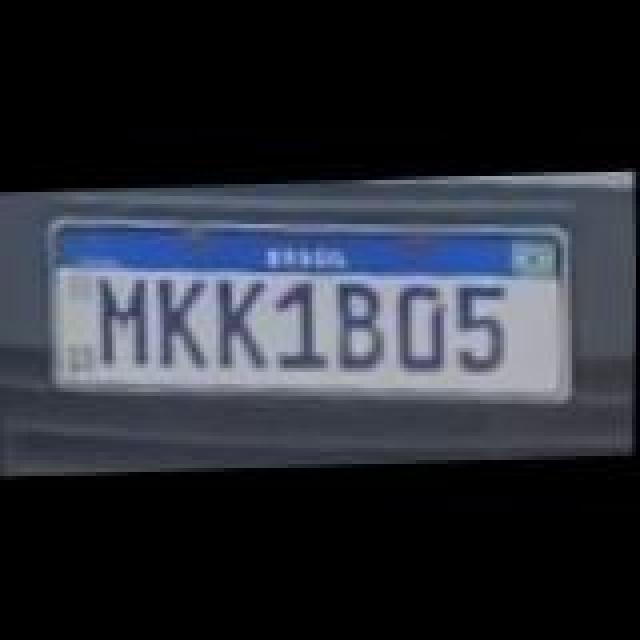1: (276, 276, 332, 364)
5: (452, 278, 508, 366)
B: (336, 278, 392, 366)
D: (390, 280, 450, 368)
K: (154, 272, 214, 360), (216, 272, 272, 364)
M: (94, 272, 154, 364)
